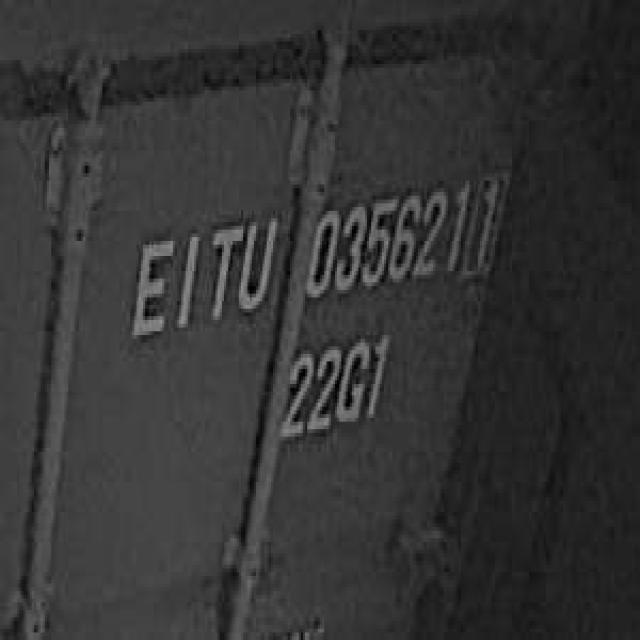dv: (465, 162, 515, 296)
owner: (120, 196, 280, 346)
serial: (300, 170, 474, 306)
size: (280, 324, 392, 440)
